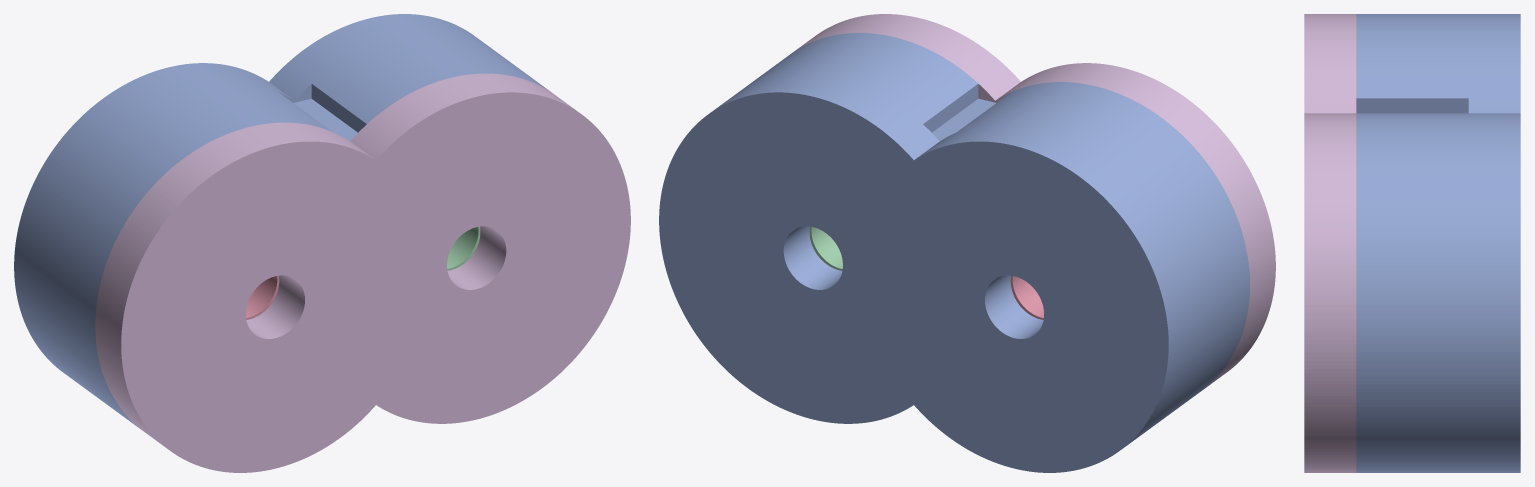
Rendered from external_gear_pump_demo.glb.
3 renders of one model, left to right at view 1: azimuth 30°, elevation 25°; view 2: azimuth 150°, elevation 25°; view 3: azimuth 270°, elevation 25°, orthographic.
Parts seen in each view (by area): view 1: cap, body, gear_b, gear_a; view 2: body, cap, gear_b, gear_a; view 3: body, cap.
Part boxes in pixels (<box>): cap: <box>95,73,630,472</box>; body: <box>14,14,551,428</box>; gear_b: <box>447,226,480,270</box>; gear_a: <box>246,275,279,319</box>; body: <box>659,33,1249,472</box>; cap: <box>794,14,1275,387</box>; gear_b: <box>809,226,842,270</box>; gear_a: <box>1010,275,1043,319</box>; body: <box>1356,14,1520,472</box>; cap: <box>1304,14,1356,472</box>.
Size of the model in its own units: 45.6 by 27.6 by 16.6.
